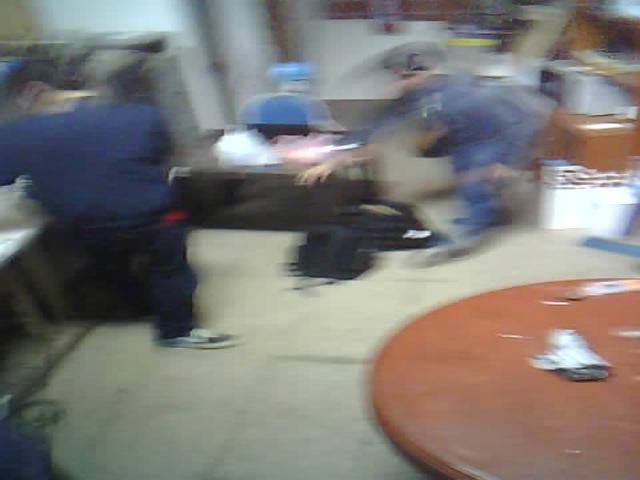person: (0, 48, 262, 368), (294, 41, 574, 257)
